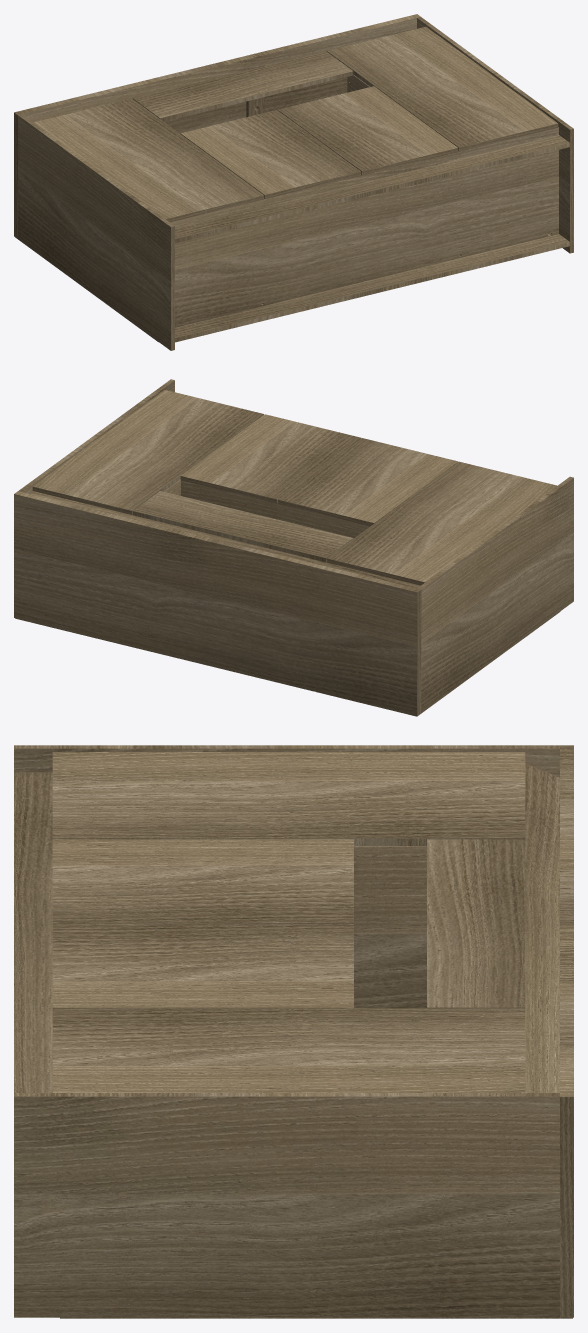
File: A009022_v1_carvalho.glb
The picture shows the model from 3 angles, top to bottom: view 1: azimuth 30°, elevation 25°; view 2: azimuth 150°, elevation 25°; view 3: azimuth 270°, elevation 25°; orthographic projection. The views are drawn at different scales.
Parts seen in each view (by area): view 1: A009022-PISOSXXXPISO, Simetr적009022-COSTADOSCOST, A009022-PUERTASXXGDE, A009022-PUERTASXXGDE001, A009022-PUERTASXCHIC, A009022-PUERTASXCHIC001, A009022-TAPASXXXTAPA, A009022-FRENTEXCAJON, A009022-FRENTESXZOCA, A009022-FRENTESXZOCA001, A009022-COSTADOSCOST, A009022-PISOXXXCAJON; view 2: A009022-TAPASXXXTAPA, Simetr적009022-COSTADOSCOST, A009022-PUERTASXXGDE, A009022-PUERTASXXGDE001, A009022-PUERTASXCHIC, A009022-PUERTASXCHIC001, A009022-FRENTEXCAJON, A009022-ESTANTESFIJO, A009022-FRENTESXXFTE, A009022-COSTADOSCOST; view 3: A009022-COSTADOSCOST, A009022-PUERTASXXGDE001, A009022-PUERTASXXGDE, A009022-PUERTASXCHIC, A009022-PUERTASXCHIC001, A009022-FRENTEXCAJON, A009022-FRENTESXZOCA, Simetr적009022-SEPDORESXSEP, A009022-FRENTESXXFTE, A009022-TAPASXXXTAPA, Simetr적009022-COSTADOSCOST, A009022-FONDOMUEBLEX.
Part boxes in pixels (left/top/right/bottom): A009022-PISOSXXXPISO: left=170, top=127, right=558, bottom=327; Simetr적009022-COSTADOSCOST: left=18, top=114, right=174, bottom=350; A009022-PUERTASXXGDE: left=326, top=26, right=558, bottom=151; A009022-PUERTASXXGDE001: left=33, top=98, right=263, bottom=222; A009022-PUERTASXCHIC: left=277, top=86, right=458, bottom=175; A009022-PUERTASXCHIC001: left=180, top=110, right=361, bottom=198; A009022-TAPASXXXTAPA: left=14, top=14, right=420, bottom=238; A009022-FRENTEXCAJON: left=132, top=51, right=353, bottom=121; A009022-FRENTESXZOCA: left=175, top=135, right=569, bottom=243; A009022-FRENTESXZOCA001: left=175, top=234, right=569, bottom=342; A009022-COSTADOSCOST: left=417, top=17, right=573, bottom=253; A009022-PISOXXXCAJON: left=164, top=77, right=347, bottom=133; A009022-TAPASXXXTAPA: left=14, top=491, right=421, bottom=715; Simetr적009022-COSTADOSCOST: left=417, top=476, right=573, bottom=712; A009022-PUERTASXXGDE: left=32, top=390, right=263, bottom=514; A009022-PUERTASXXGDE001: left=326, top=461, right=556, bottom=585; A009022-PUERTASXCHIC: left=180, top=414, right=361, bottom=503; A009022-PUERTASXCHIC001: left=277, top=438, right=458, bottom=526; A009022-FRENTEXCAJON: left=132, top=491, right=353, bottom=562; A009022-ESTANTESFIJO: left=181, top=480, right=369, bottom=538; A009022-FRENTESXXFTE: left=31, top=491, right=420, bottom=588; A009022-COSTADOSCOST: left=18, top=379, right=174, bottom=494; A009022-COSTADOSCOST: left=14, top=1093, right=559, bottom=1317; A009022-PUERTASXXGDE001: left=52, top=752, right=525, bottom=845; A009022-PUERTASXXGDE: left=52, top=1008, right=525, bottom=1092; A009022-PUERTASXCHIC: left=52, top=923, right=353, bottom=1008; A009022-PUERTASXCHIC001: left=52, top=839, right=353, bottom=923; A009022-FRENTEXCAJON: left=427, top=839, right=525, bottom=1008; A009022-FRENTESXZOCA: left=14, top=772, right=52, bottom=1092; Simetr적009022-SEPDORESXSEP: left=354, top=846, right=426, bottom=1008; A009022-FRENTESXXFTE: left=525, top=763, right=559, bottom=1092; A009022-TAPASXXXTAPA: left=560, top=745, right=573, bottom=1317; Simetr적009022-COSTADOSCOST: left=14, top=745, right=559, bottom=777; A009022-FONDOMUEBLEX: left=60, top=1317, right=572, bottom=1318.
Size of the model in its own units: 1.5 by 0.443 by 1.01.
1 material, 1 textured.
